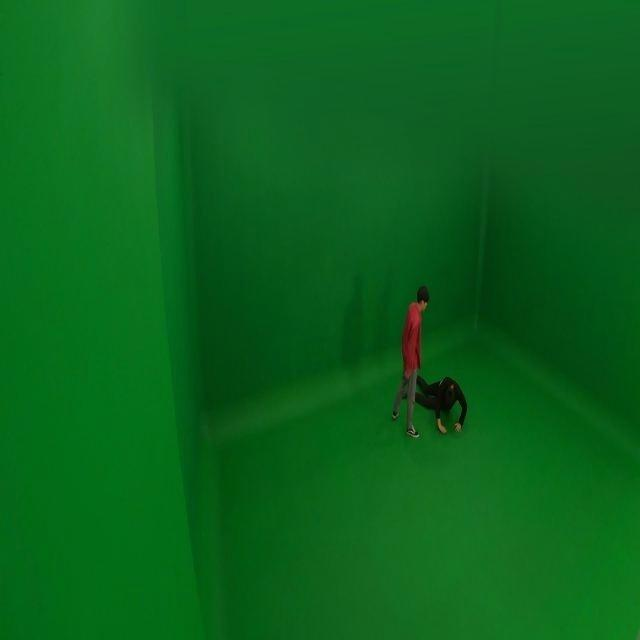fight: (392, 281, 472, 440)
